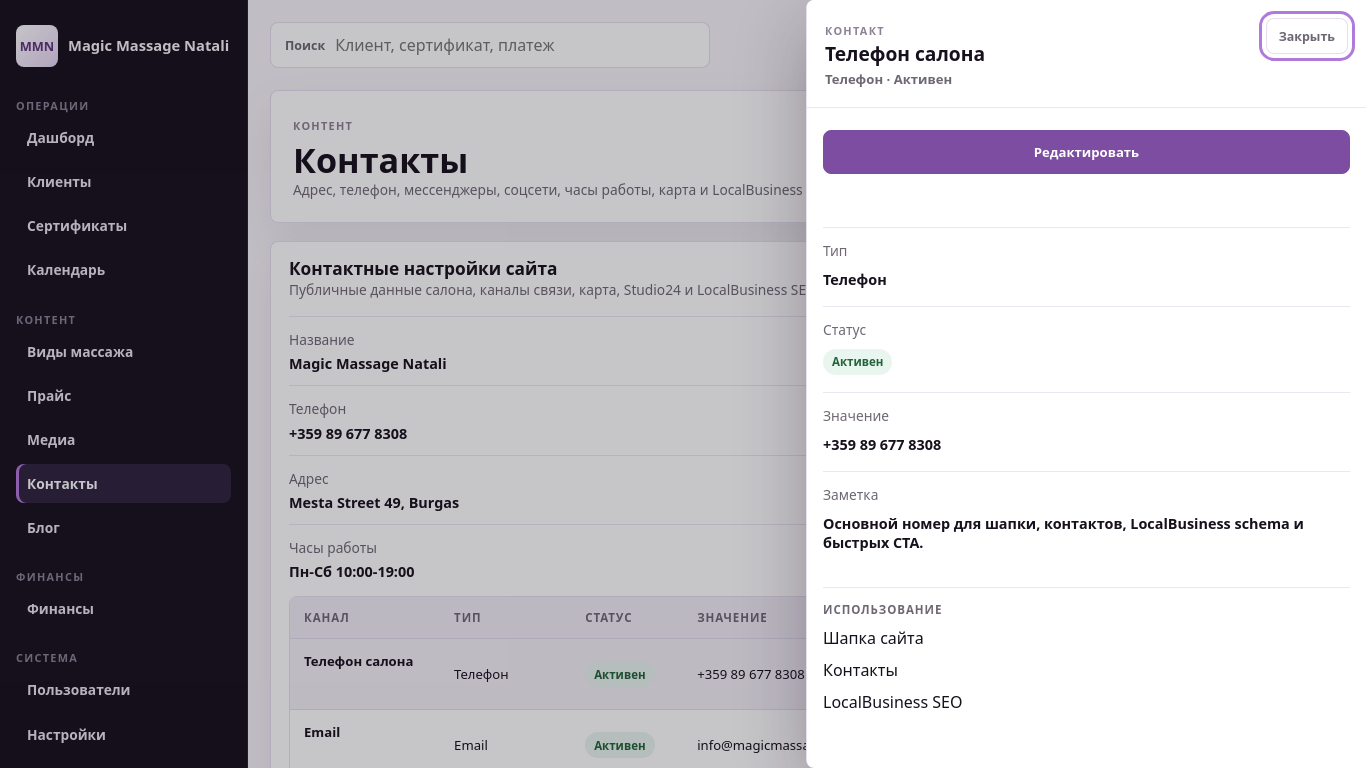
it: AdminShell › opens contact details from the contact query
Check: the heading "Телефон салона" is shown, box x1=825 y1=40 x2=985 y2=67
Check: the text "+359 89 677 8308" is shown, box x1=823 y1=435 x2=941 y2=454
Step 1. Click the button "Редактировать" → (1086, 152), box x1=823 y1=130 x2=1350 y2=174
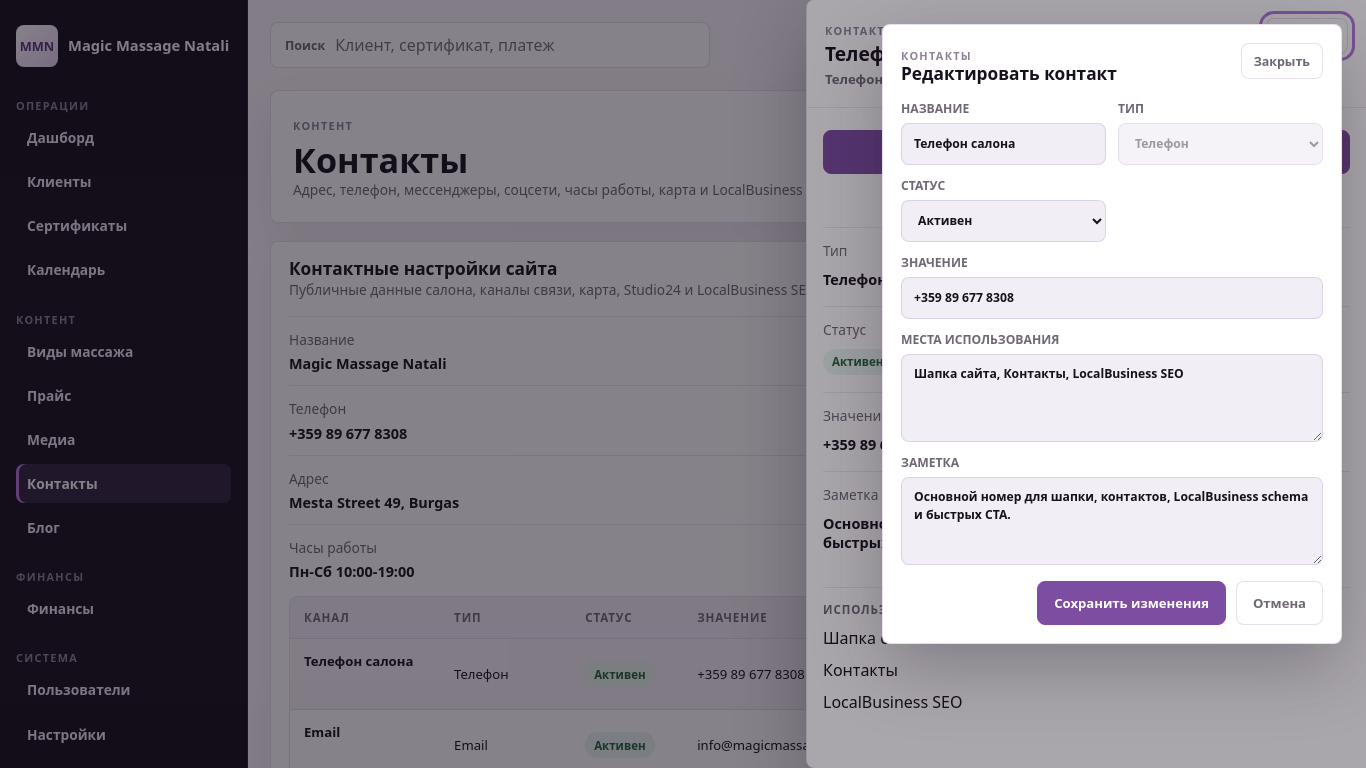
Check: the dropdown labelled "Тип" is disabled, box x1=1118 y1=123 x2=1323 y2=165
